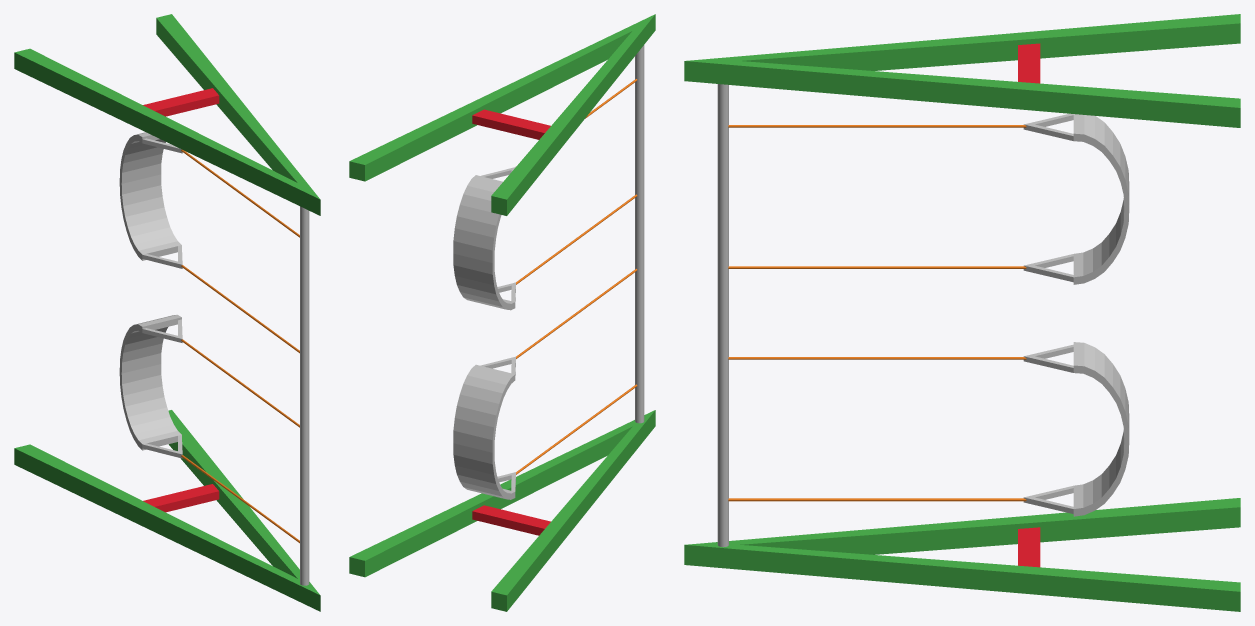
File: Swings.obj
3 renders of one model, left to right at view 1: azimuth 30°, elevation 25°; view 2: azimuth 150°, elevation 25°; view 3: azimuth 270°, elevation 25°, orthographic. The views are drawn at different scales.
Parts seen in each view (by area): view 1: group_0_4634441, group_0_7720667, group_0_6383466, group_0_15277357, group_0_16089887; view 2: group_0_4634441, group_0_7720667, group_0_6383466, group_0_15277357, group_0_16089887; view 3: group_0_4634441, group_0_7720667, group_0_6383466, group_0_16089887, group_0_15277357.
Part boxes in pixels (box(x1,y1,x2,y2)): group_0_4634441: box(14, 14, 320, 611); group_0_7720667: box(119, 132, 182, 458); group_0_6383466: box(300, 206, 309, 585); group_0_15277357: box(143, 88, 219, 512); group_0_16089887: box(181, 149, 299, 543); group_0_4634441: box(349, 14, 655, 611); group_0_7720667: box(453, 167, 515, 499); group_0_6383466: box(635, 45, 644, 423); group_0_15277357: box(472, 109, 550, 535); group_0_16089887: box(516, 79, 637, 474); group_0_4634441: box(684, 14, 1240, 611); group_0_7720667: box(1023, 113, 1129, 516); group_0_6383466: box(717, 84, 728, 547); group_0_16089887: box(728, 125, 1026, 501); group_0_15277357: box(1018, 43, 1040, 567).
Bounding box in the file's own units: 20 × 50 × 50.
